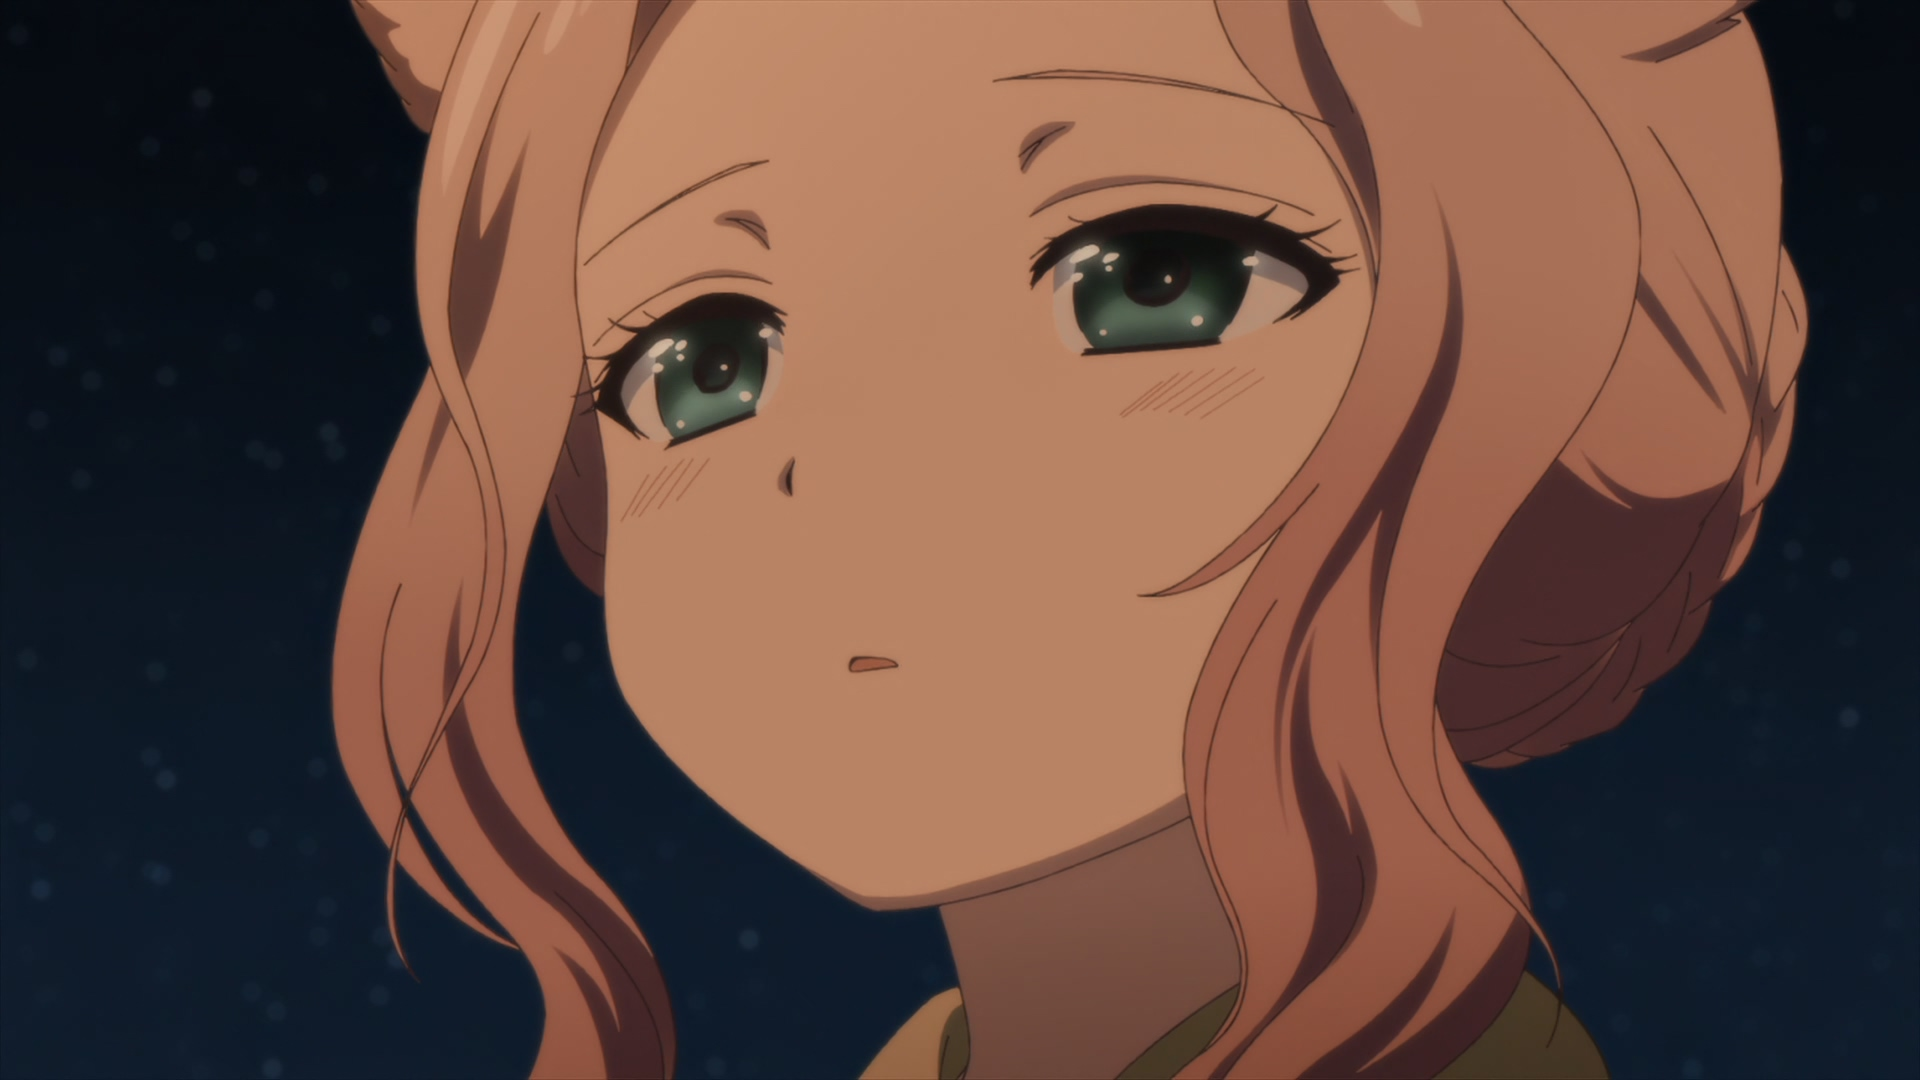莲: (330, 1, 1811, 1080)
